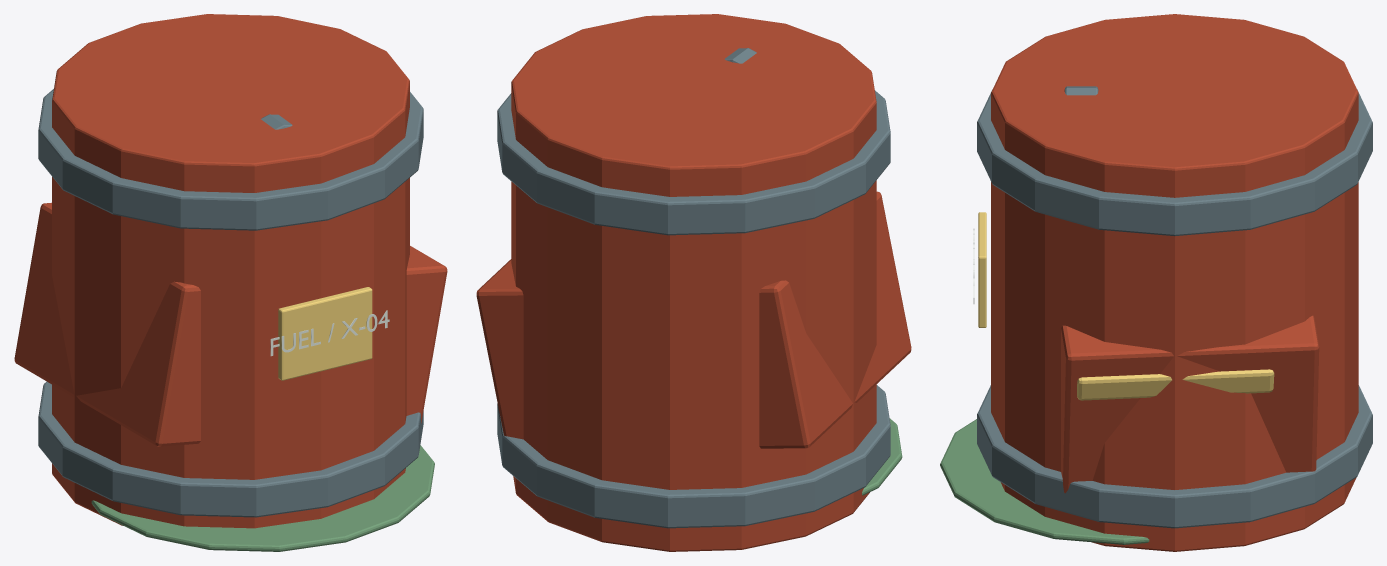
Rendered from fuel_barrel_d2.glb.
The picture shows the model from 3 angles, left to right: view 1: azimuth 30°, elevation 25°; view 2: azimuth 150°, elevation 25°; view 3: azimuth 270°, elevation 25°; orthographic projection. The views are drawn at different scales.
Parts seen in each view (by area): view 1: Barrel body.008, Crushed drum shell.002, Barrel rim.017, Barrel rim.016, Spilled fuel puddle.002, Fuel placard.008, Hazard stencil.008; view 2: Barrel body.008, Crushed drum shell.002, Barrel rim.017, Barrel rim.016, Spilled fuel puddle.002; view 3: Barrel body.008, Crushed drum shell.002, Barrel rim.017, Barrel rim.016, Spilled fuel puddle.002, Peeled hazard band.002, Fuel placard.008.
Part boxes in pixels (<box>): Barrel body.008: <box>52,14,409,528</box>; Crushed drum shell.002: <box>14,202,447,446</box>; Barrel rim.017: <box>38,89,423,230</box>; Barrel rim.016: <box>38,381,423,517</box>; Spilled fuel puddle.002: <box>91,445,434,551</box>; Fuel placard.008: <box>278,287,372,380</box>; Hazard stencil.008: <box>270,310,389,356</box>; Barrel body.008: <box>511,14,876,551</box>; Crushed drum shell.002: <box>476,191,911,448</box>; Barrel rim.017: <box>497,90,890,235</box>; Barrel rim.016: <box>497,385,890,528</box>; Spilled fuel puddle.002: <box>862,418,902,495</box>; Barrel body.008: <box>991,14,1358,551</box>; Crushed drum shell.002: <box>1061,315,1319,493</box>; Barrel rim.017: <box>977,89,1372,236</box>; Barrel rim.016: <box>977,385,1372,528</box>; Spilled fuel puddle.002: <box>940,419,1149,544</box>; Peeled hazard band.002: <box>1077,369,1274,400</box>; Fuel placard.008: <box>978,212,986,327</box>.
Size of the model in its own units: 1.4 by 1.51 by 1.53.
